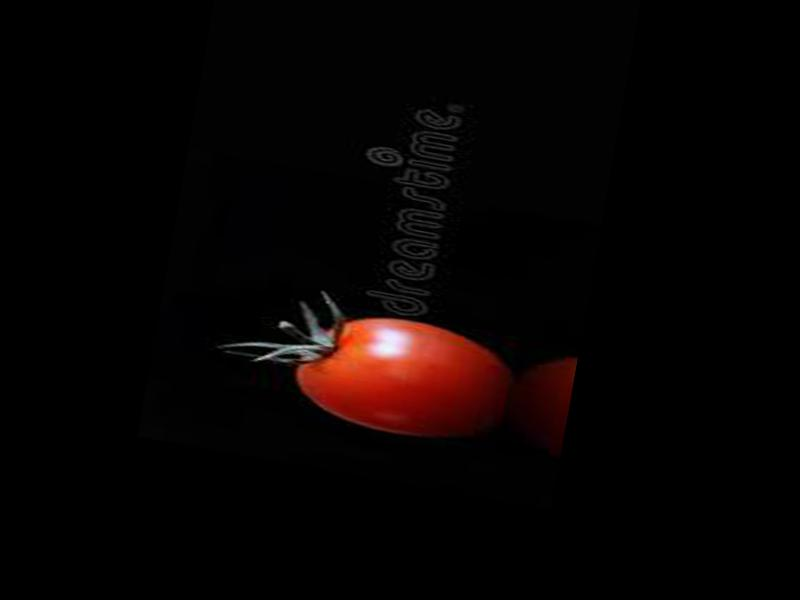Tomato: (287, 302, 516, 450)
